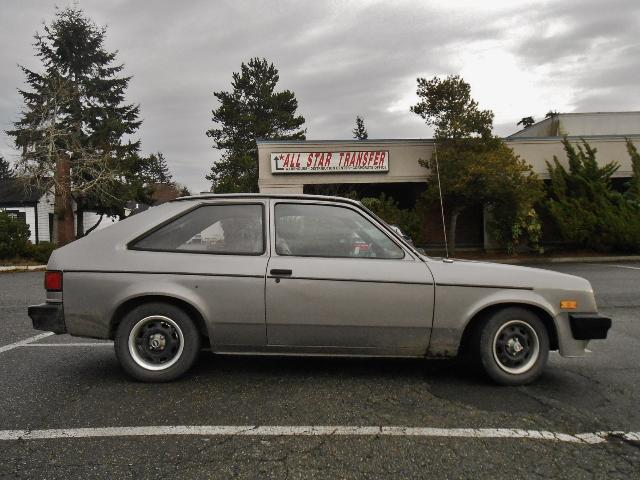chevette-1983: (28, 193, 610, 385)
